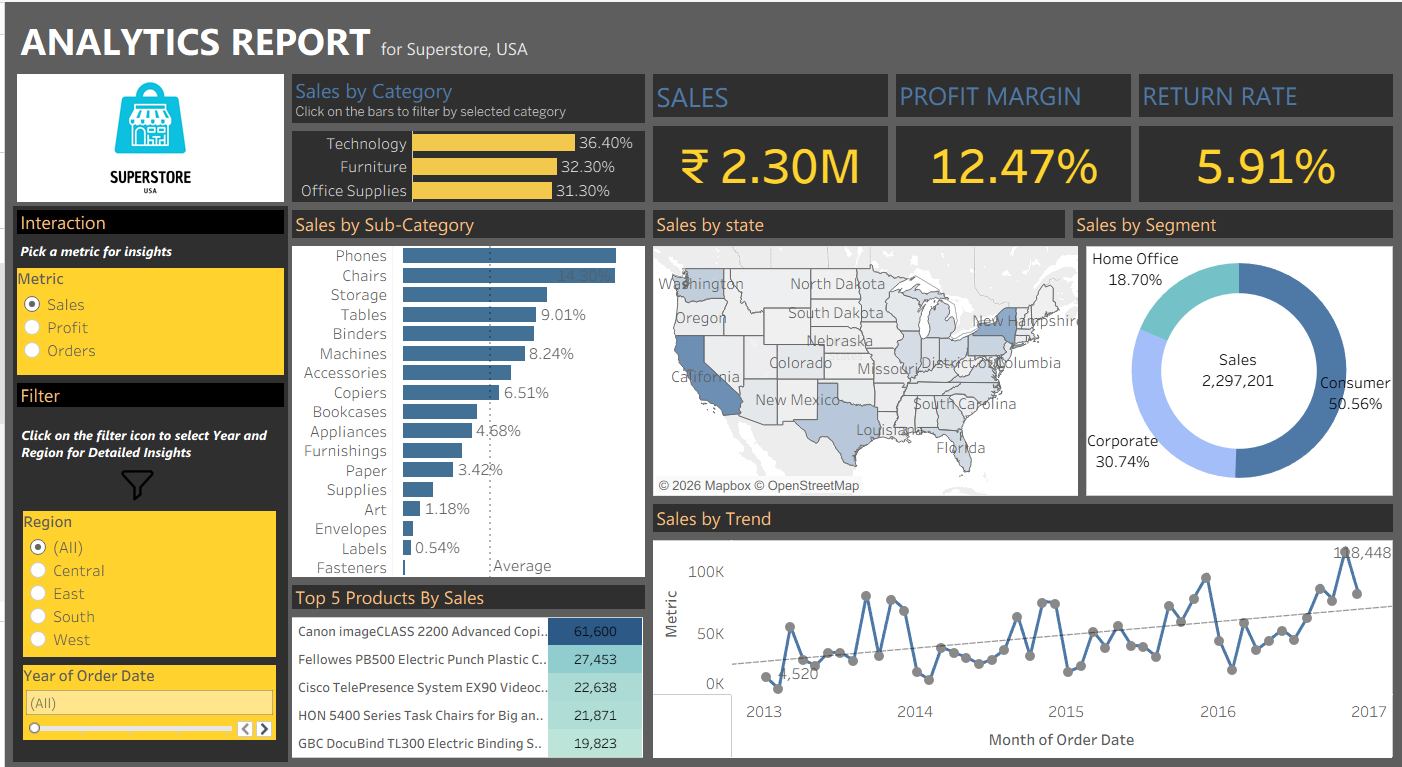

The dashboard page shown, as its layout file describes it:
{"tool":"tableau","page":{"name":"Analytics Report Dashboard ","canvas":[1000,1000],"units":"permille","ordinal":0},"visuals":[{"type":"text","box":[4.8,9.4,990.3,78.6]},{"type":"image","param":"Image/Picture1.png","box":[4.8,88,157.8,177.4]},{"type":"text","box":[162.6,88,270.3,67]},{"type":"text","box":[432.9,88,187.4,67]},{"type":"text","box":[620.3,88,187.4,67]},{"type":"text","box":[807.7,88,187.5,67]},{"type":"worksheet","title":"category chart ","mark":"Automatic","rows":["Category"],"cols":["Calculation_1064060273364997"],"box":[162.6,155,270.3,110.5]},{"type":"worksheet","title":"kpi sales ","mark":"Automatic","box":[432.9,155,187.4,110.5]},{"type":"worksheet","title":"kpi profit margin","mark":"Automatic","box":[620.3,155,187.4,110.5]},{"type":"worksheet","title":"kpi return rate","mark":"Automatic","box":[807.7,155,187.4,110.5]},{"type":"text","box":[4.8,265.4,157.8,37.6]},{"type":"text","box":[162.6,265.5,270.5,47]},{"type":"text","box":[433.2,265.5,327.3,47]},{"type":"text","box":[760.5,265.5,234.7,47]},{"type":"text","box":[4.8,303,157.8,30.6]},{"type":"worksheet","title":"sub -category chart ","mark":"Automatic","rows":["Sub-Category"],"cols":["Calculation_1064060273364997"],"box":[162.6,312.4,270.2,465.5]},{"type":"worksheet","title":"sales by state chart ","mark":"Automatic","box":[432.9,312.4,327.6,336.2]},{"type":"worksheet","title":"sales by segment ","mark":"Pie","rows":["Calculation_1216617880485926","Calculation_1216617880502312"],"box":[760.5,312.4,234.7,336.2]},{"type":"parameter","param":"[Parameters].[Parameter 2]","box":[4.8,333.5,157.8,135.1]},{"type":"text","box":[4.8,468.7,157.8,37.6]},{"type":"text","box":[3.7,547.6,157.9,43.5]},{"type":"dashboard-object","box":[58.4,606.4,35,57.6]},{"type":"text","box":[432.9,648.6,562.3,64.6]},{"type":"filter","title":"Sales Trend ","param":"[federated.00rbss112r9shp1au26he1bb9rsv].[none:Region:nk]","box":[3.7,672.1,157.2,178.6]},{"type":"worksheet","title":"Sales Trend ","mark":"Line","rows":["Calculation_1064060273364997","Calculation_1064060273364997"],"cols":["Order Date"],"box":[432.9,713.3,562.3,277.3]},{"type":"text","box":[162.6,777.9,270.2,37.6]},{"type":"worksheet","title":"Top 5 Products by Sales","mark":"Square","rows":["Product Name"],"box":[162.6,815.5,270.2,175.1]},{"type":"filter","title":"Sales Trend ","param":"[federated.00rbss112r9shp1au26he1bb9rsv].[yr:Order Date:ok]","box":[3.7,850.8,157.2,97.5]}]}

Visuals, with their boxes on the dashboard's canvas, which has no fixed pixel size, in thousandths of its width and height (x1, y1, x2, y2). These are canvas units, not pixel positions in the 1402x767 screenshot, which may show the page scaled, cropped or inside an application window:
text: select_region(5, 9, 995, 88)
image: select_region(5, 88, 163, 265)
text: select_region(163, 88, 433, 155)
text: select_region(433, 88, 620, 155)
text: select_region(620, 88, 808, 155)
text: select_region(808, 88, 995, 155)
"category chart " worksheet: select_region(163, 155, 433, 266)
"kpi sales " worksheet: select_region(433, 155, 620, 266)
"kpi profit margin" worksheet: select_region(620, 155, 808, 266)
"kpi return rate" worksheet: select_region(808, 155, 995, 266)
text: select_region(5, 265, 163, 303)
text: select_region(163, 266, 433, 312)
text: select_region(433, 266, 760, 312)
text: select_region(760, 266, 995, 312)
text: select_region(5, 303, 163, 334)
"sub -category chart " worksheet: select_region(163, 312, 433, 778)
"sales by state chart " worksheet: select_region(433, 312, 760, 649)
"sales by segment " worksheet (Pie marks): select_region(760, 312, 995, 649)
parameter: select_region(5, 334, 163, 469)
text: select_region(5, 469, 163, 506)
text: select_region(4, 548, 162, 591)
dashboard-object: select_region(58, 606, 93, 664)
text: select_region(433, 649, 995, 713)
"Sales Trend " filter: select_region(4, 672, 161, 851)
"Sales Trend " worksheet (Line marks): select_region(433, 713, 995, 991)
text: select_region(163, 778, 433, 816)
"Top 5 Products by Sales" worksheet (Square marks): select_region(163, 816, 433, 991)
"Sales Trend " filter: select_region(4, 851, 161, 948)
